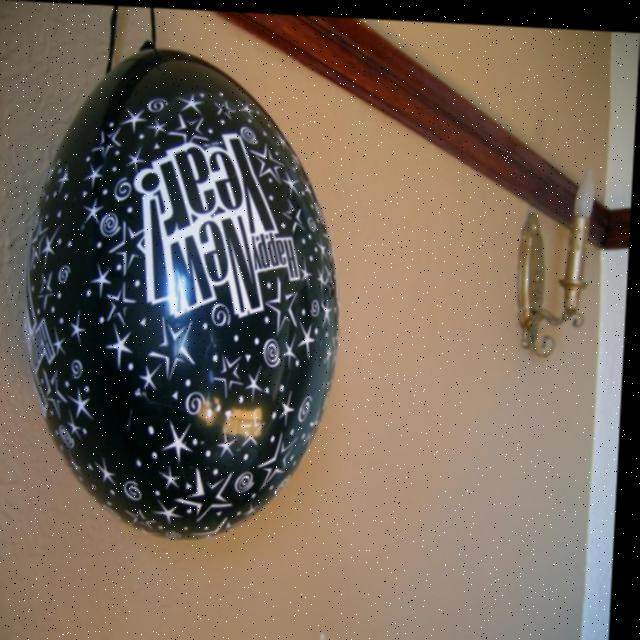balloon: (22, 41, 352, 544)
